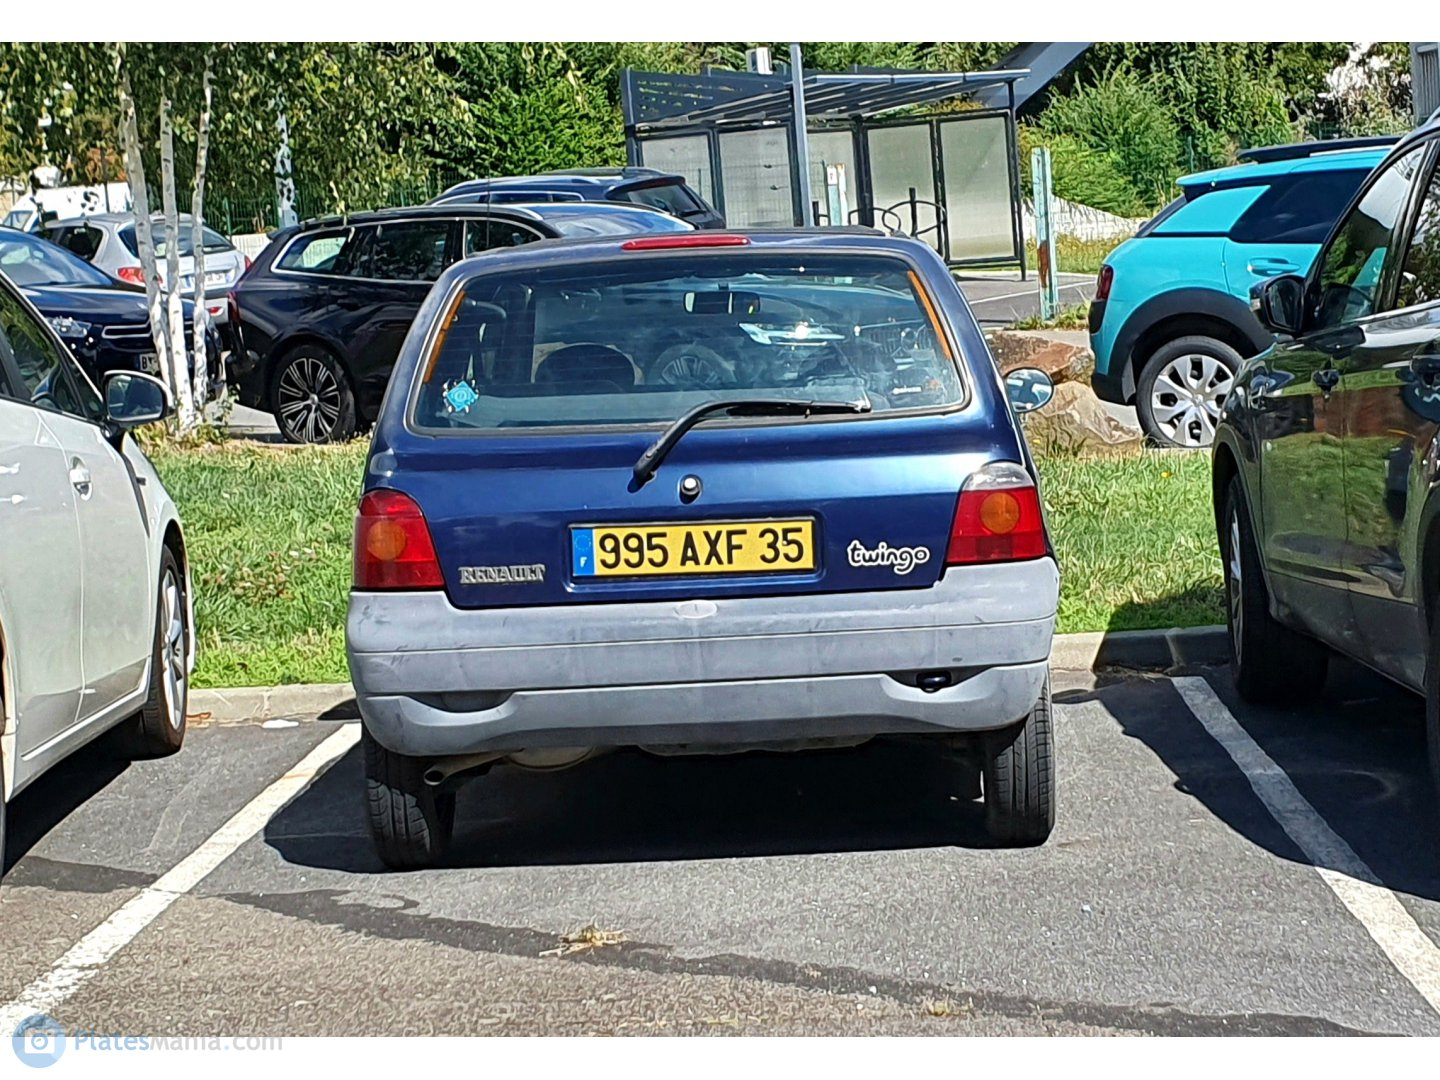licence plate: (563, 514, 819, 578)
